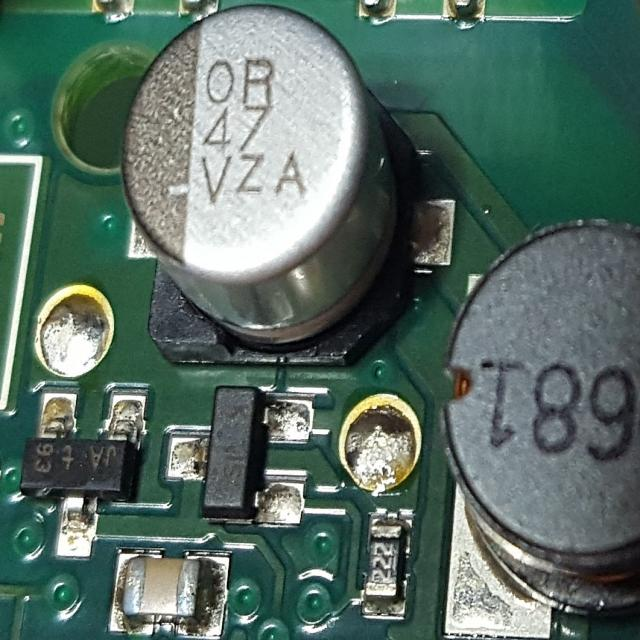4439: (179, 376, 299, 520), (19, 402, 139, 523)
capacitor 1V5: (108, 9, 396, 349), (107, 551, 207, 633)
inductor F1: (448, 202, 640, 608)
resistor IR1: (365, 524, 399, 616)
